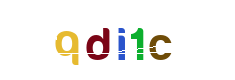1: (82, 0, 162, 80)
C: (99, 0, 179, 80)
D: (78, 0, 158, 80)
I: (81, 0, 161, 80)
Q: (37, 0, 117, 80)
